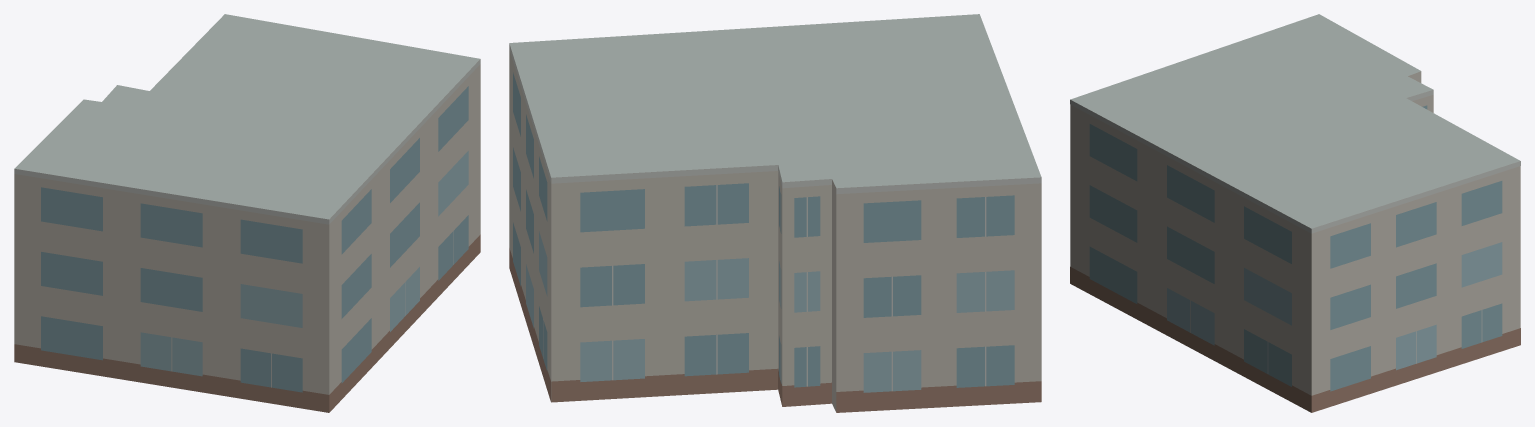
File: survey-upis-32473311.glb
3 views of the same model, side by side, from view 1: azimuth 30°, elevation 25°; view 2: azimuth 150°, elevation 25°; view 3: azimuth 270°, elevation 25° (orthographic). The views are drawn at different scales.
Parts seen in each view (by area): view 1: survey-upis-32473311.tmp; view 2: survey-upis-32473311.tmp; view 3: survey-upis-32473311.tmp.
Boxes of the visible parts, <box> form: survey-upis-32473311.tmp: <box>14,14,480,412</box>; survey-upis-32473311.tmp: <box>509,14,1041,412</box>; survey-upis-32473311.tmp: <box>1070,14,1520,412</box>.
Bounding box in the file's own units: 22.89 × 9.15 × 20.3.
